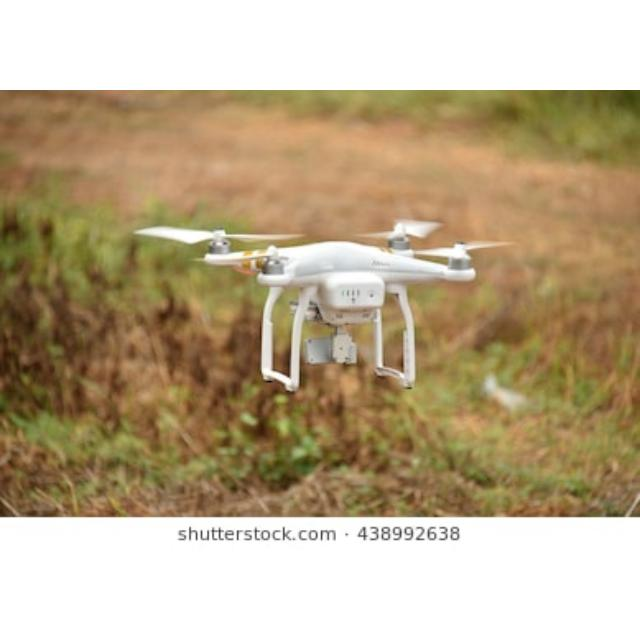Drones: (171, 222, 484, 398)
